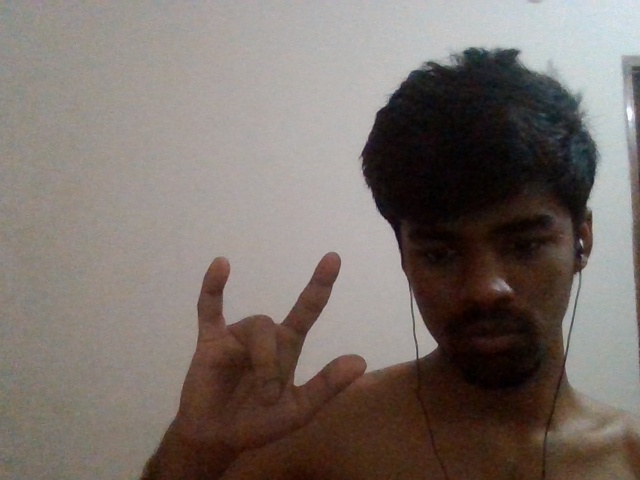ILoveYou: (159, 247, 374, 465)
